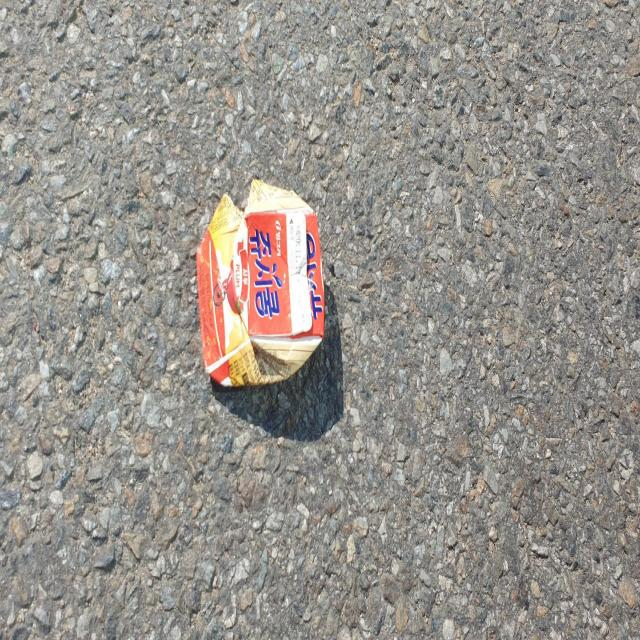paperpack: (196, 178, 325, 386)
